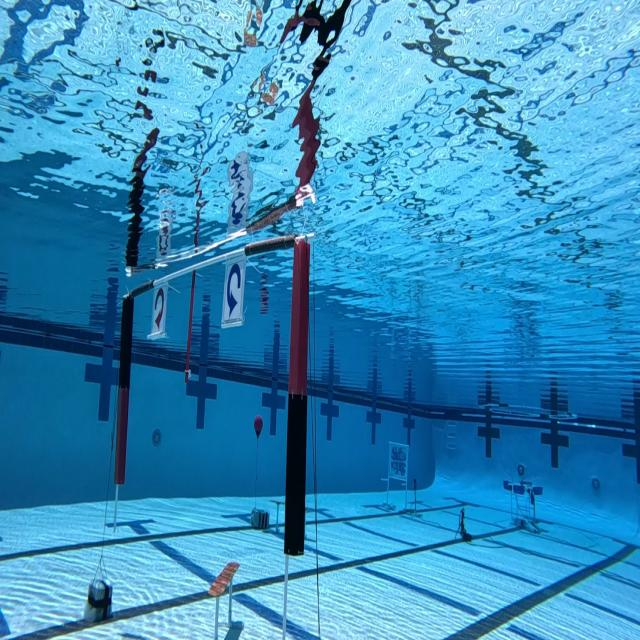blue_side: (222, 252, 246, 329)
red_side: (149, 281, 169, 338)
